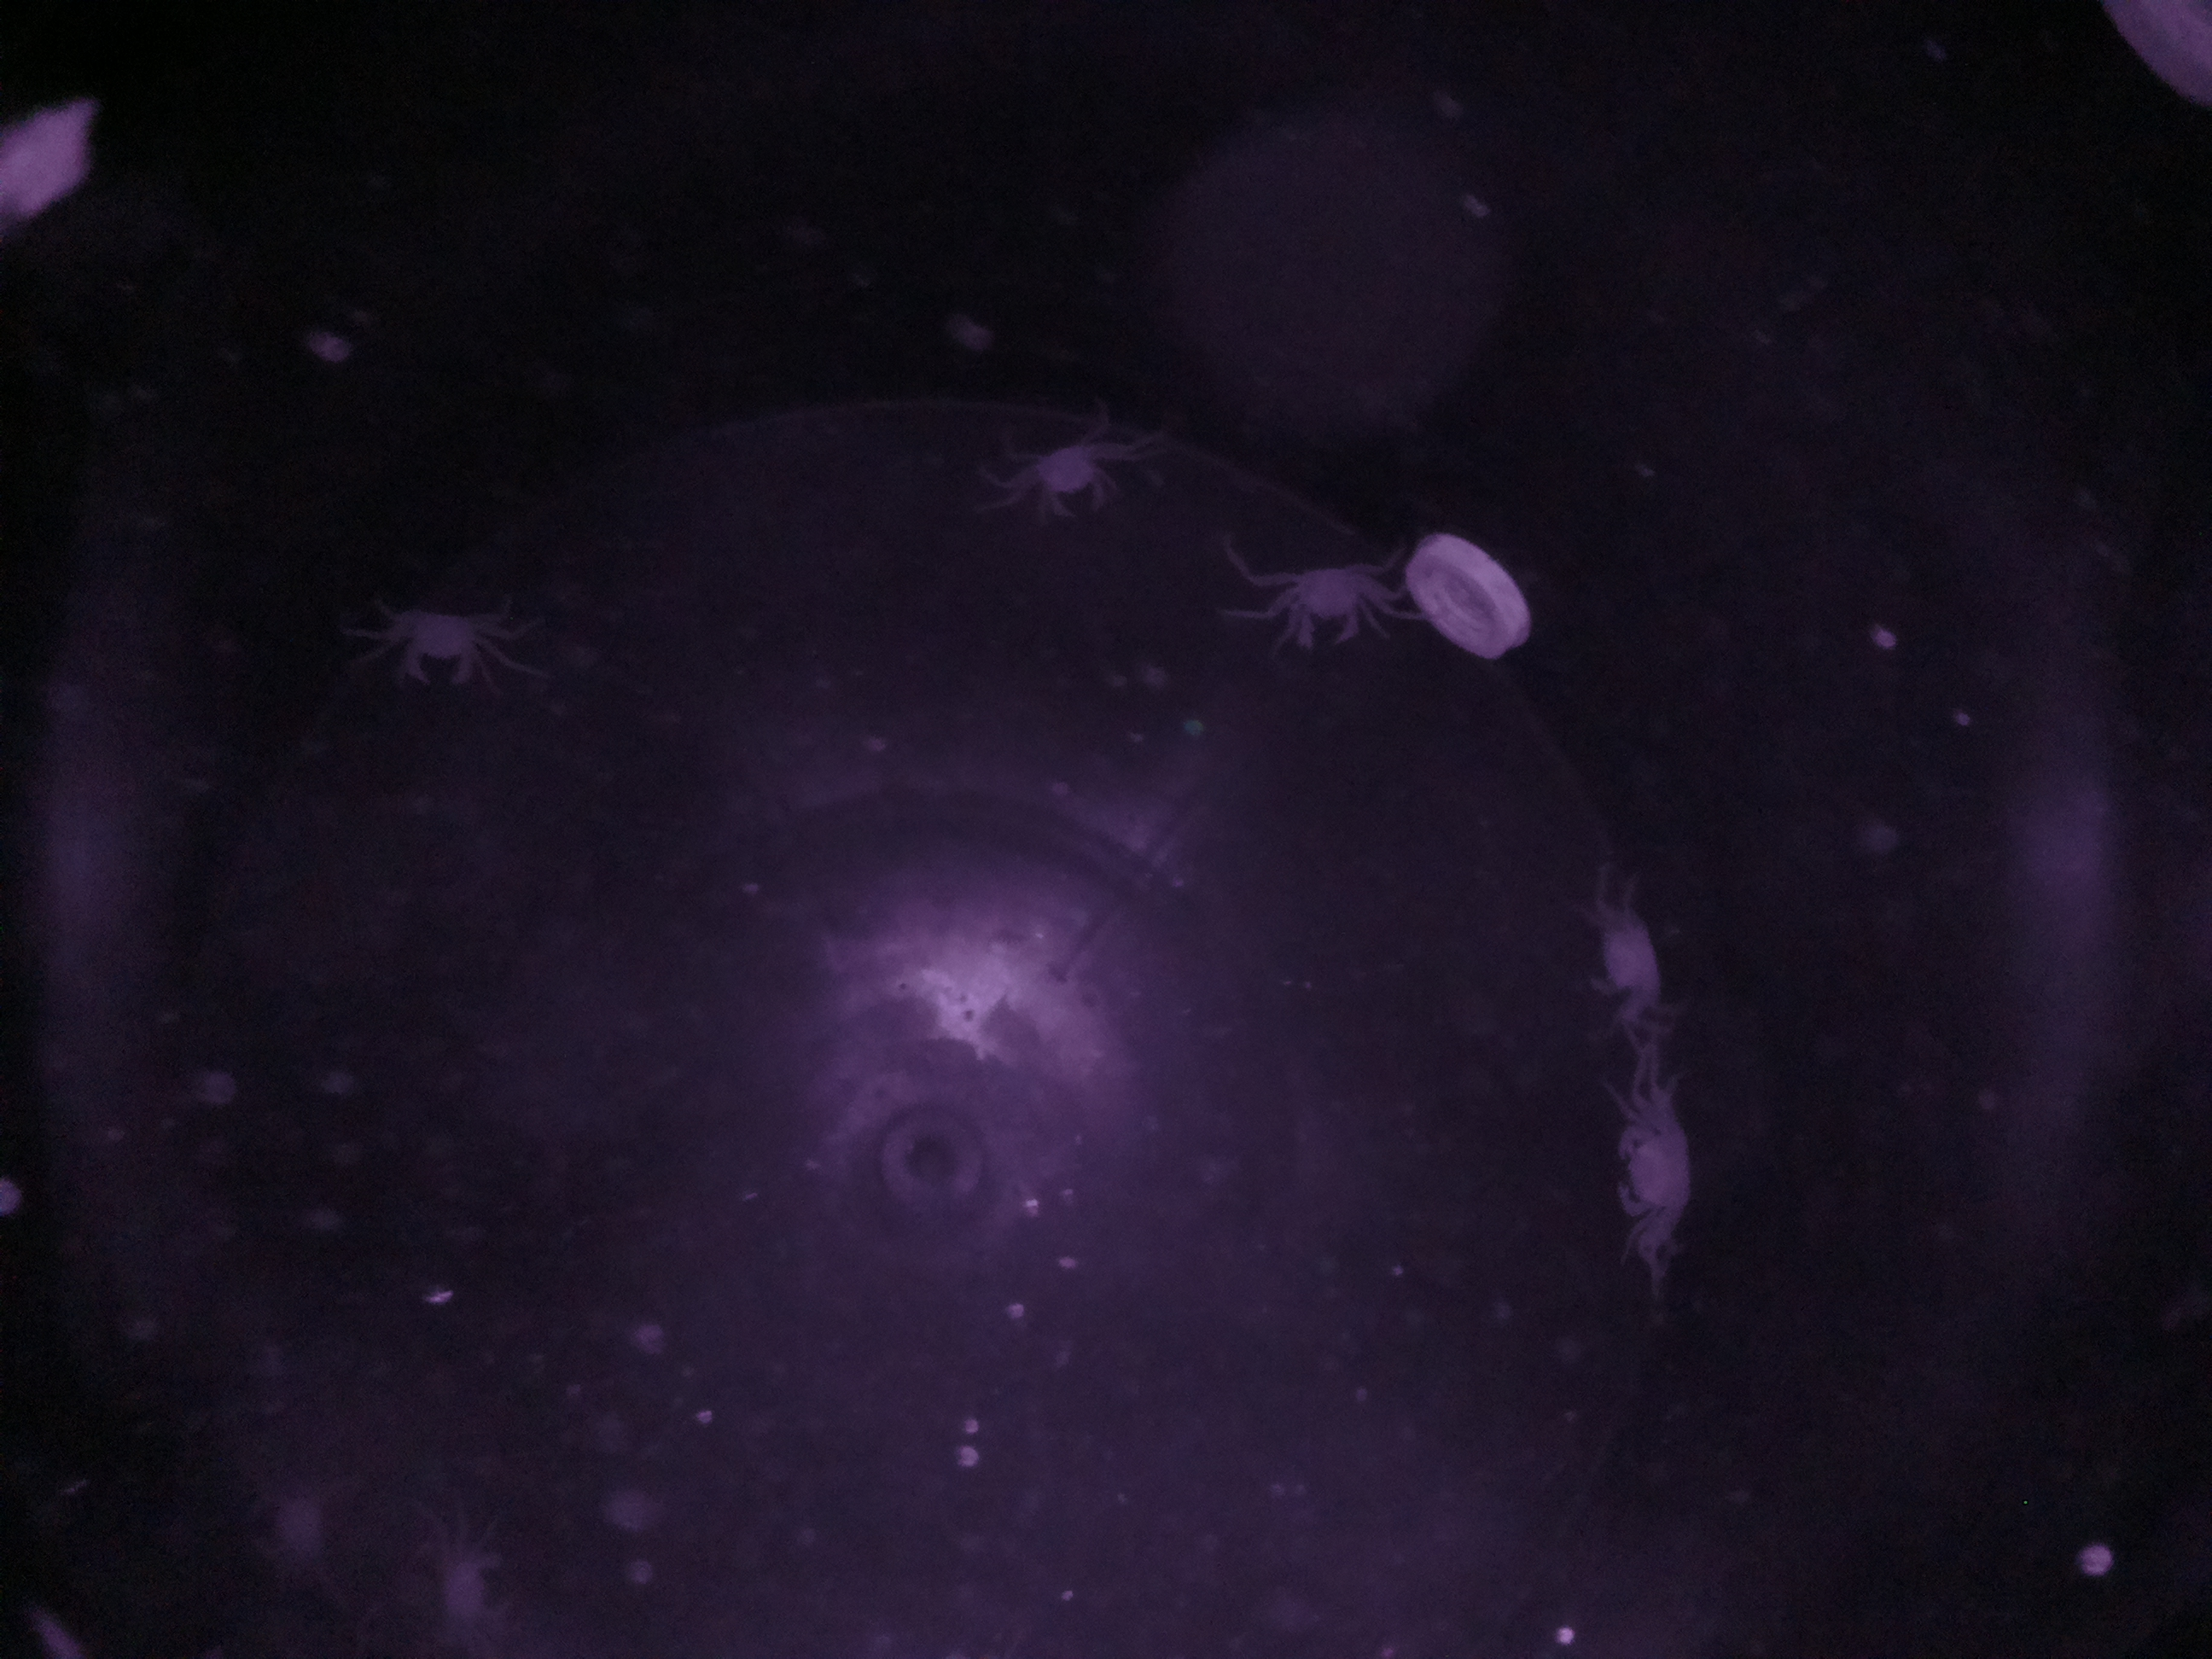Crab: (1594, 1087, 1723, 1241), (1581, 877, 1684, 1009), (1266, 547, 1379, 664), (1008, 425, 1122, 538), (378, 603, 495, 695)
